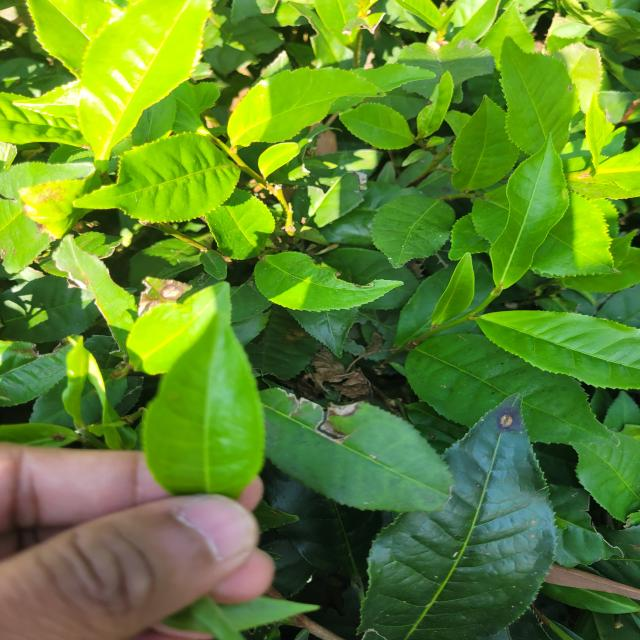Catagory A(1-2 days): (134, 301, 280, 516)
